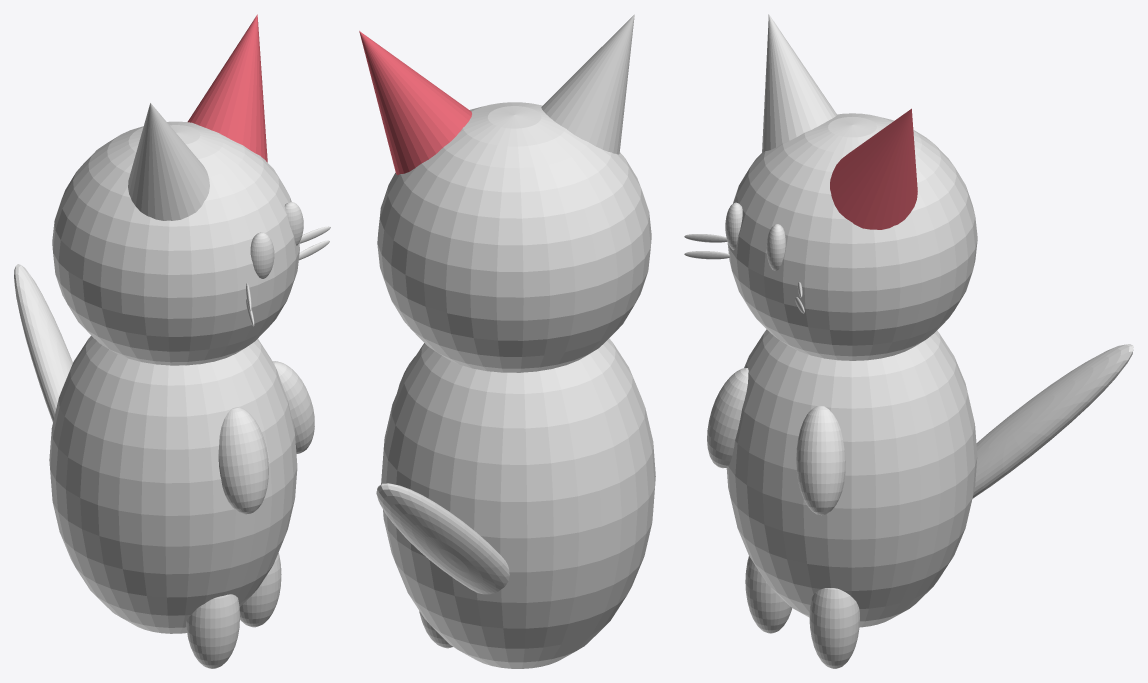
3 views of the same model, side by side, from view 1: azimuth 30°, elevation 25°; view 2: azimuth 150°, elevation 25°; view 3: azimuth 270°, elevation 25° (orthographic). The views are drawn at different scales.
Visible parts, largest first — view 1: 球.001, 球, 円錐.001, 円錐, 球.004, 球.002, 球.005, 球.003, 球.006, 球.007, 球.008; view 2: 球.001, 球, 円錐, 球.002, 円錐.001; view 3: 球.001, 球, 球.002, 円錐, 円錐.001, 球.003, 球.006, 球.004, 球.005, 球.008.
Boxes of the visible parts, box(x1,y1,x2,y2) form: 球.001: box(49, 335, 297, 633); 球: box(52, 121, 299, 365); 円錐.001: box(128, 103, 209, 220); 円錐: box(187, 14, 267, 162); 球.004: box(218, 407, 268, 514); 球.002: box(14, 264, 72, 421); 球.005: box(186, 594, 239, 668); 球.003: box(272, 361, 314, 453); 球.006: box(239, 553, 281, 627); 球.007: box(250, 232, 274, 278); 球.008: box(284, 202, 303, 245); 球.001: box(381, 338, 655, 668); 球: box(377, 102, 651, 372); 円錐: box(359, 31, 471, 175); 球.002: box(376, 483, 509, 594); 円錐.001: box(541, 14, 634, 154); 球.001: box(726, 329, 977, 627); 球: box(727, 113, 977, 360); 球.002: box(972, 344, 1133, 498); 円錐: box(830, 108, 917, 229); 円錐.001: box(762, 14, 836, 153); 球.003: box(796, 406, 845, 515); 球.006: box(809, 588, 859, 668); 球.004: box(707, 368, 748, 468); 球.005: box(745, 556, 792, 633); 球.008: box(766, 224, 785, 270).
Bounding box in the file's own units: 112 × 258 × 179.
